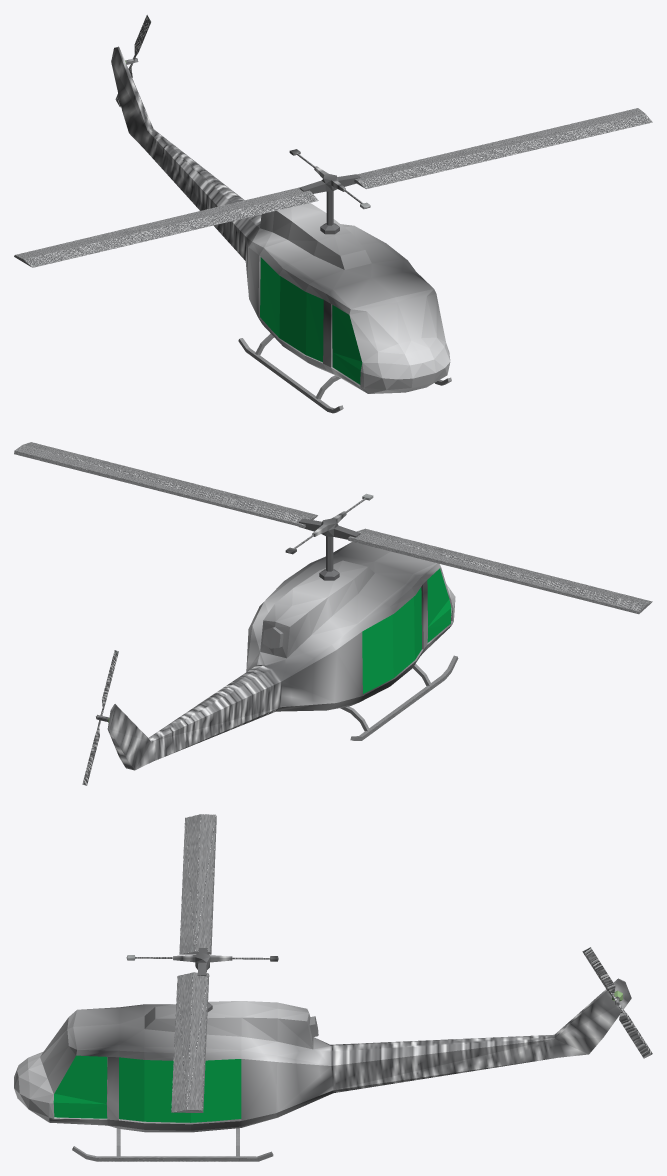
The model's file is heli.fbx.
The picture shows the model from 3 angles, top to bottom: view 1: azimuth 30°, elevation 25°; view 2: azimuth 150°, elevation 25°; view 3: azimuth 270°, elevation 25°; orthographic projection. The views are drawn at different scales.
Visible parts, largest first — view 1: Object05, Box04.Box13.001, Object03, Object06, Object02, Box03.Box08; view 2: Object05, Box04.Box13.001, Object03, Object06, Box03.Box08, Cylinder03, Object02; view 3: Object05, Box04.Box13.001, Object03.001, Object06.001, Object02.001, Box03.Box08.001, Cylinder03.
Part boxes in pixels (x1=…): Object05: x1=111, y1=46, x2=450, y2=393; Box04.Box13.001: x1=14, y1=108, x2=652, y2=267; Object03: x1=260, y1=257, x2=306, y2=354; Object06: x1=332, y1=305, x2=362, y2=384; Object02: x1=305, y1=292, x2=323, y2=362; Box03.Box08: x1=238, y1=338, x2=343, y2=413; Object05: x1=107, y1=542, x2=455, y2=770; Box04.Box13.001: x1=14, y1=442, x2=652, y2=614; Object03: x1=362, y1=597, x2=414, y2=693; Object06: x1=427, y1=568, x2=451, y2=642; Box03.Box08: x1=350, y1=655, x2=458, y2=740; Cylinder03: x1=82, y1=650, x2=118, y2=785; Object02: x1=414, y1=587, x2=421, y2=659; Object05: x1=14, y1=978, x2=631, y2=1132; Box04.Box13.001: x1=126, y1=814, x2=278, y2=1112; Object03.001: x1=144, y1=1059, x2=241, y2=1122; Object06.001: x1=53, y1=1055, x2=107, y2=1118; Object02.001: x1=119, y1=1057, x2=144, y2=1121; Box03.Box08.001: x1=72, y1=1146, x2=273, y2=1161; Cylinder03: x1=582, y1=947, x2=652, y2=1058.
Size of the model in its own units: 8.18 by 2.49 by 7.43.
